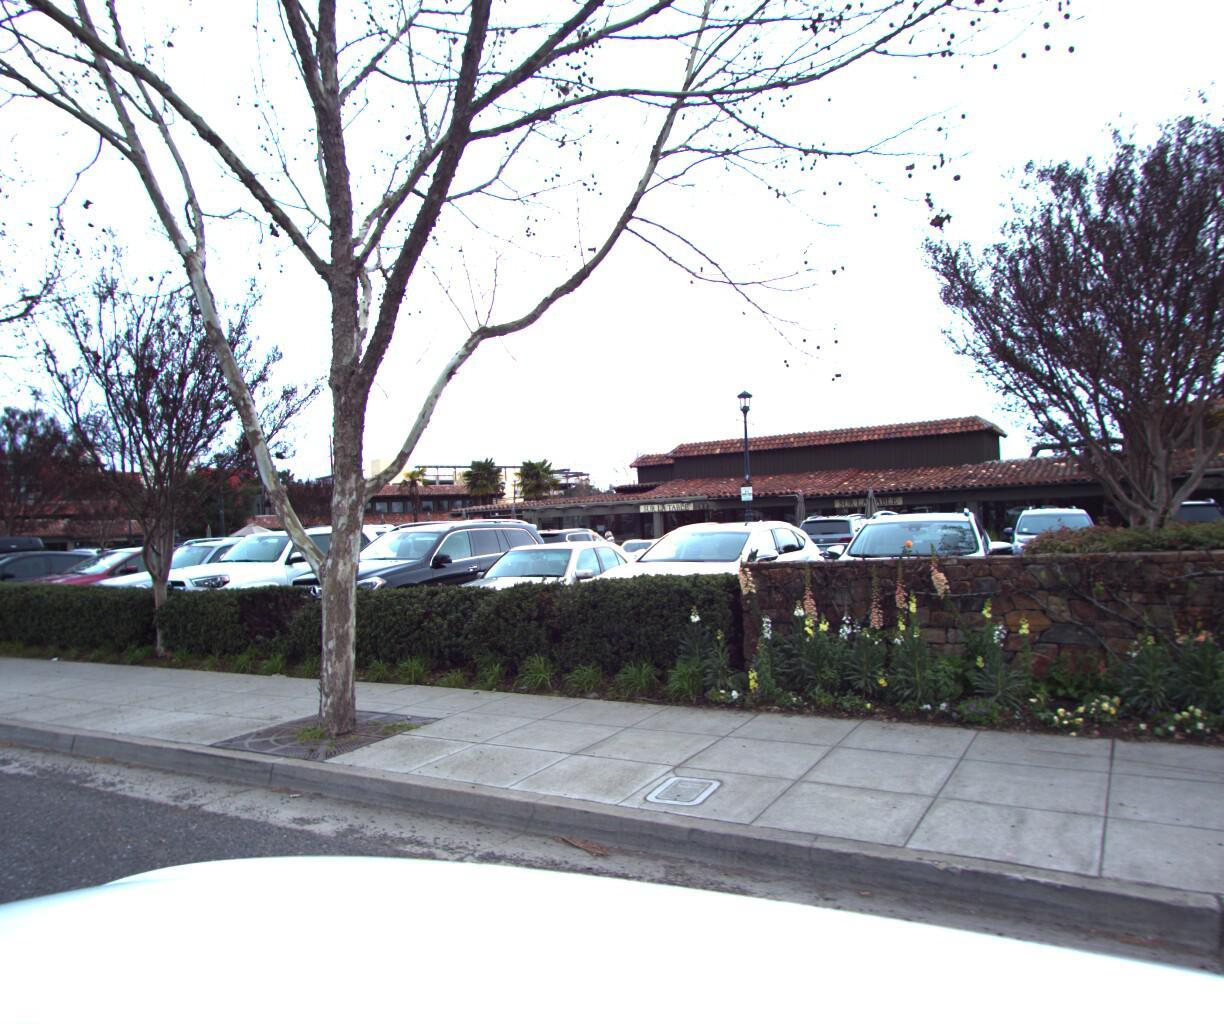car: (258, 506, 562, 636), (128, 514, 433, 637), (569, 507, 828, 648), (416, 526, 651, 642), (816, 494, 992, 639), (68, 527, 326, 623), (5, 529, 245, 609)
